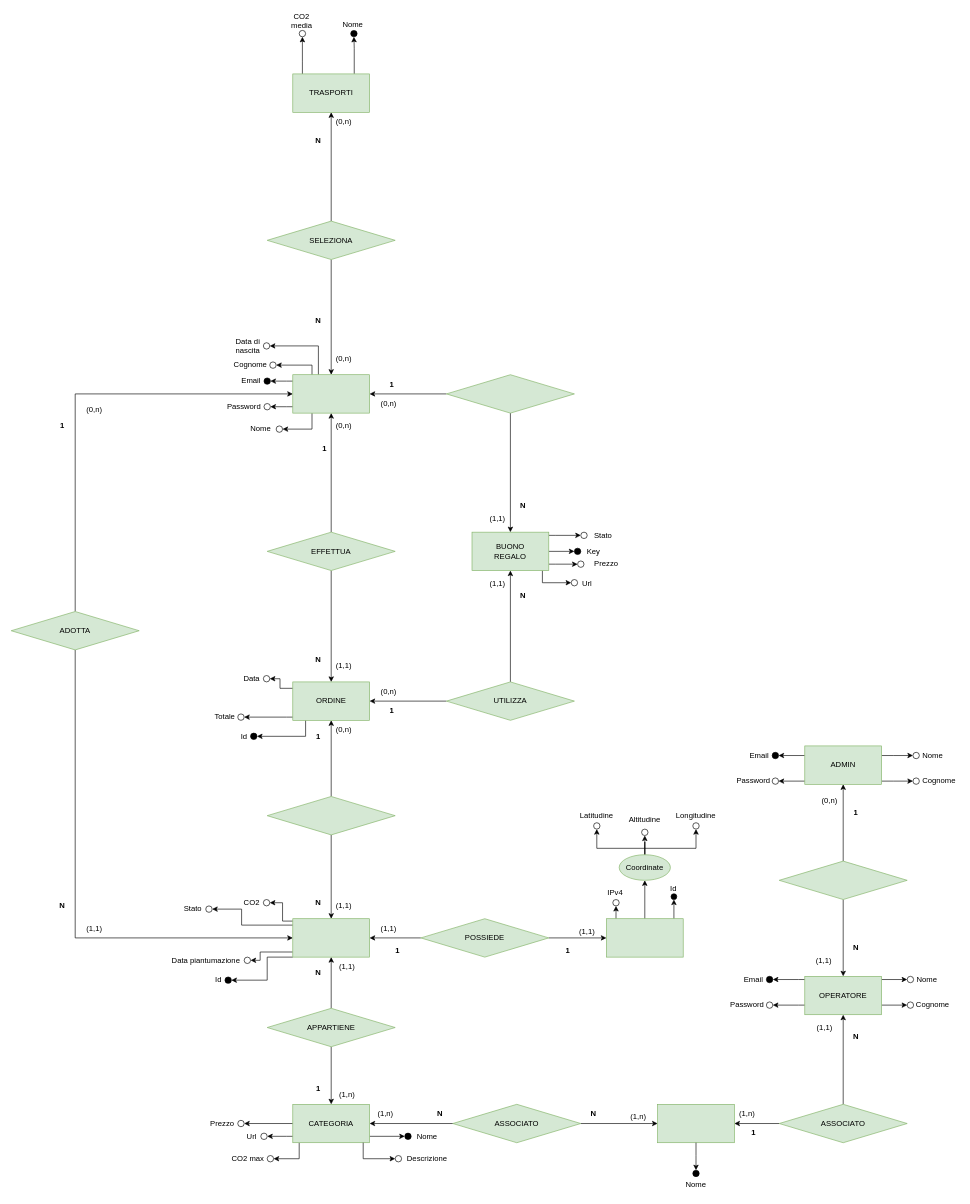
Some shapes in this 970 by 1204 pixel diagram are drawn without their labels. Each missing label, with the box of its shape:
ACQUISTA: (446, 374, 574, 413)
ALBERO: (292, 918, 370, 957)
COMPOSTO: (267, 796, 395, 835)
GENERA: (779, 860, 907, 900)
IOT: (606, 918, 683, 957)
REGIONE: (657, 1104, 734, 1143)
UTENTE: (292, 374, 370, 413)
